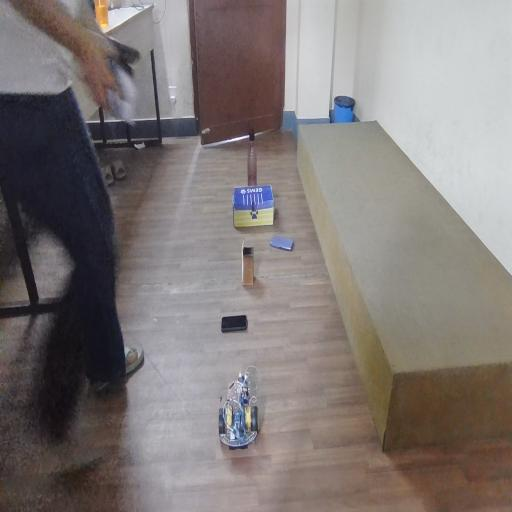Bottle: (237, 132, 273, 198)
car: (212, 380, 266, 456)
